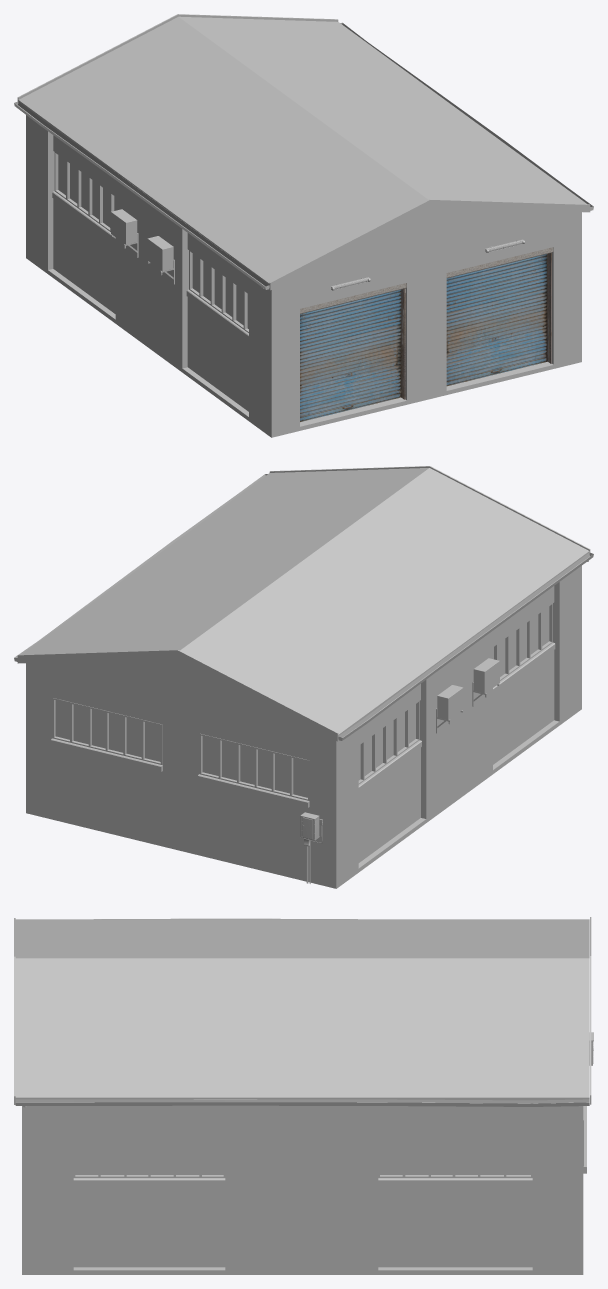
The picture shows the model from 3 angles, top to bottom: view 1: azimuth 30°, elevation 25°; view 2: azimuth 150°, elevation 25°; view 3: azimuth 270°, elevation 25°; orthographic projection. The views are drawn at different scales.
Visible parts, largest first — view 1: woodenRoof, walls, DoorsRollup, DoorsRollup.001, brickWalls.001, wideWindow, wideWindow.001, wood.001, gutter.001, wood, airconditioning.Low.001, airconditioning.Low (+1 smaller); view 2: woodenRoof, walls, brickWalls.001, wideWindow.002, wood, wideWindow.001, wideWindow, gutter.001, wood.001, eletricBox-Low, airconditioning.Low, airconditioning.Low.001 (+1 smaller); view 3: woodenRoof, walls, brickWalls, wideWindow.001, wideWindow, gutter.
Part boxes in pixels (<box>): woodenRoof: <box>18,16,586,288</box>; walls: <box>26,115,581,437</box>; DoorsRollup: <box>446,247,553,386</box>; DoorsRollup.001: <box>300,283,406,421</box>; brickWalls.001: <box>53,135,248,411</box>; wideWindow: <box>186,250,248,341</box>; wideWindow.001: <box>52,152,115,243</box>; wood.001: <box>269,199,590,290</box>; gutter.001: <box>14,101,269,289</box>; wood: <box>17,14,338,100</box>; airconditioning.Low.001: <box>111,209,137,244</box>; airconditioning.Low: <box>147,236,173,271</box>; woodenRoof: <box>22,468,589,739</box>; walls: <box>26,566,581,888</box>; brickWalls.001: <box>358,586,554,862</box>; wideWindow.002: <box>51,698,309,807</box>; wood: <box>17,649,338,741</box>; wideWindow.001: <box>358,701,421,792</box>; wideWindow: <box>493,603,555,694</box>; gutter.001: <box>338,552,593,740</box>; wood.001: <box>269,466,590,552</box>; eletricBox-Low: <box>300,812,322,883</box>; airconditioning.Low: <box>473,658,499,693</box>; airconditioning.Low.001: <box>437,685,463,720</box>; woodenRoof: <box>15,919,589,1100</box>; walls: <box>22,1105,583,1274</box>; brickWalls: <box>73,1105,532,1267</box>; wideWindow.001: <box>378,1132,532,1185</box>; wideWindow: <box>73,1132,225,1185</box>; gutter: <box>15,1099,589,1107</box>.
Bounding box in the file's own units: 863 × 503 × 1135.
